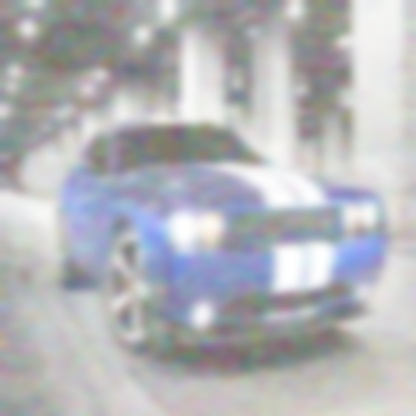Vehicle: (54, 112, 392, 356)
